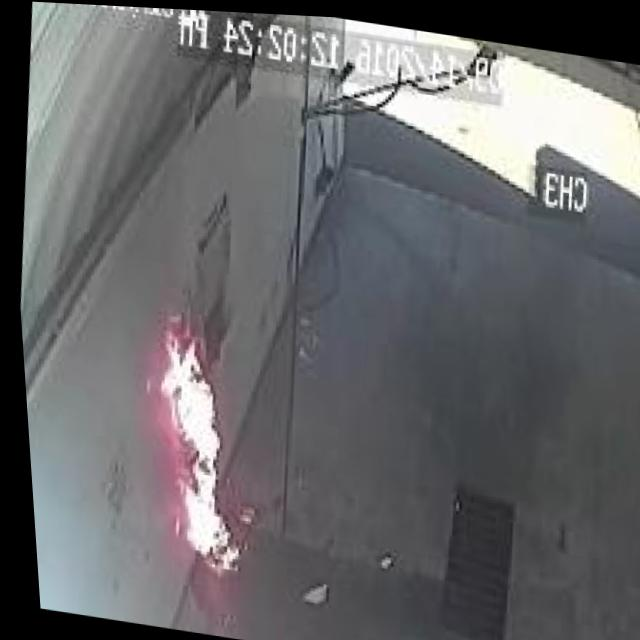fire: (121, 302, 253, 578)
